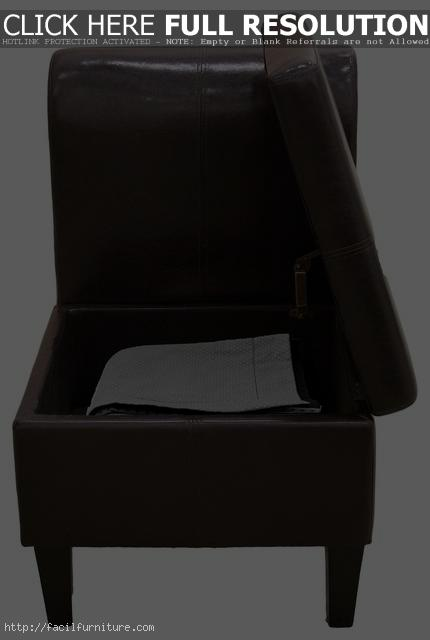chairs: (9, 47, 414, 631)
